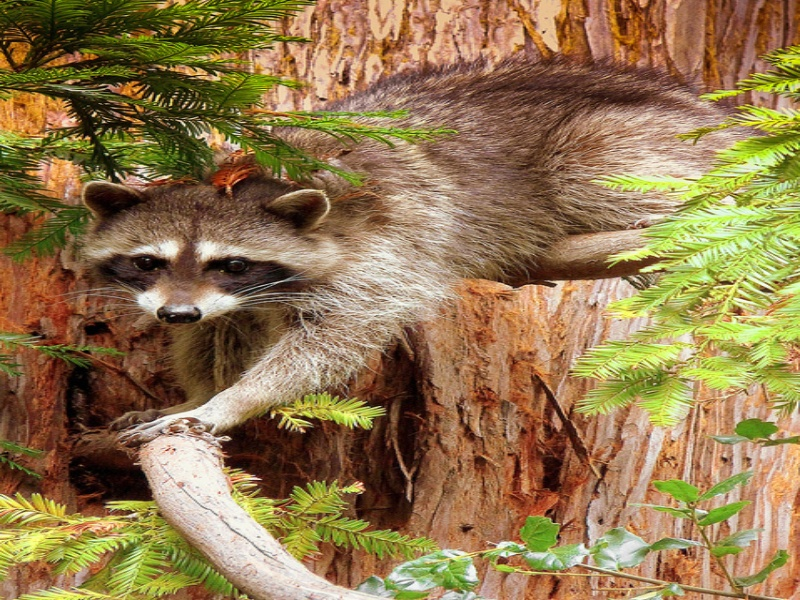raccoon: (78, 51, 784, 459)
